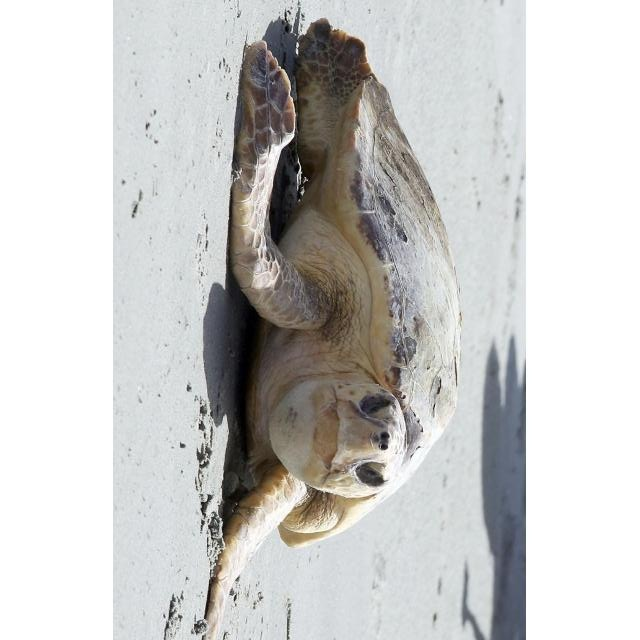turtle: (205, 14, 463, 639)
